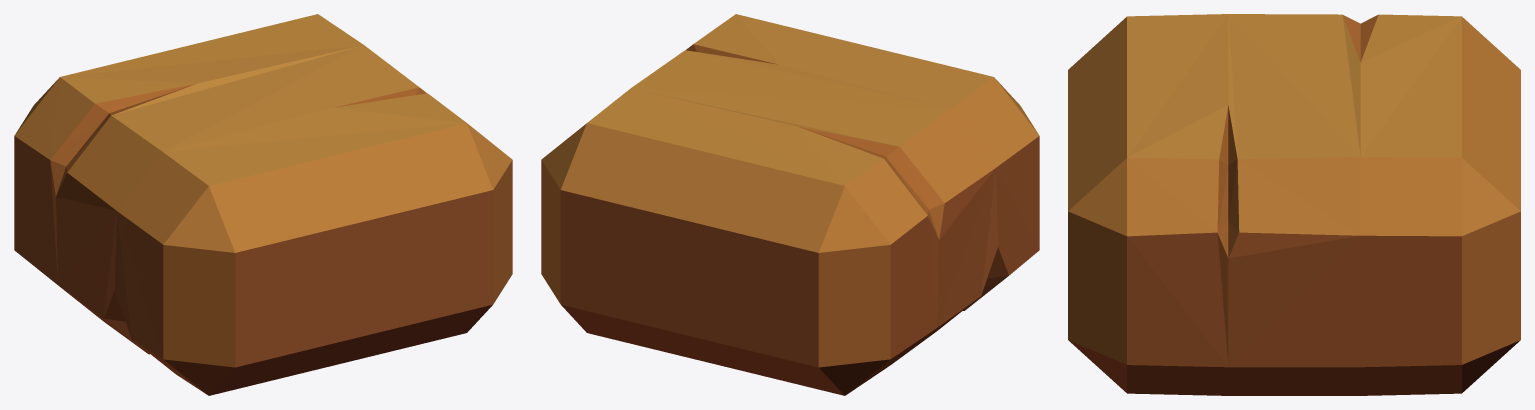
Rendered from m_kub_wood_floorBrickMini.FBX.
3 renders of one model, left to right at view 1: azimuth 30°, elevation 25°; view 2: azimuth 150°, elevation 25°; view 3: azimuth 270°, elevation 25°, orthographic. The views are drawn at different scales.
Visible parts, largest first — view 1: m_kub_wood_floorBrickMini; view 2: m_kub_wood_floorBrickMini; view 3: m_kub_wood_floorBrickMini.
Boxes of the visible parts, box(x1,y1,x2,y2) form: m_kub_wood_floorBrickMini: box(14, 14, 512, 395); m_kub_wood_floorBrickMini: box(541, 14, 1039, 395); m_kub_wood_floorBrickMini: box(1068, 14, 1520, 395).
Size of the model in its own units: 1.19 by 0.7 by 1.18.
